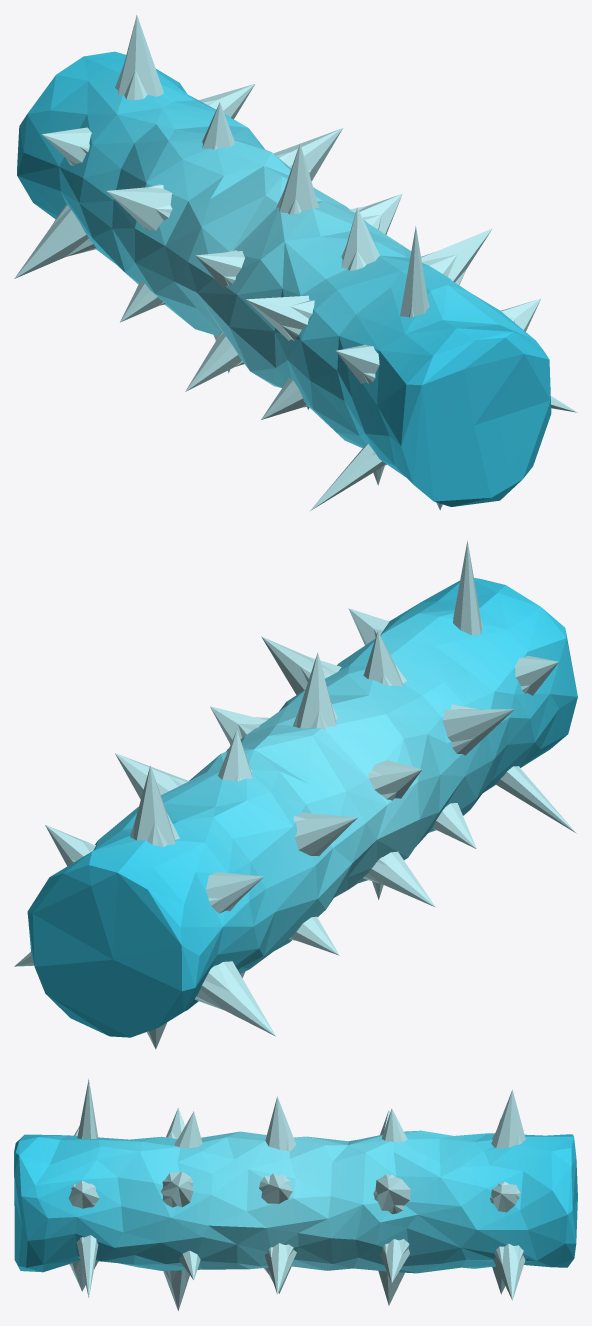
File: obstacle_16_002.fbx
3 views of the same model, one above another, from view 1: azimuth 30°, elevation 25°; view 2: azimuth 150°, elevation 25°; view 3: azimuth 270°, elevation 25° (orthographic). The views are drawn at different scales.
Visible parts, largest first — view 1: obstacle_16_002; view 2: obstacle_16_002; view 3: obstacle_16_002.
Part boxes in pixels (box(x1,y1,x2,y2)): obstacle_16_002: box(14, 15, 577, 511); obstacle_16_002: box(14, 540, 577, 1049); obstacle_16_002: box(14, 1078, 577, 1310).
Size of the model in its own units: 231 by 579 by 254.
